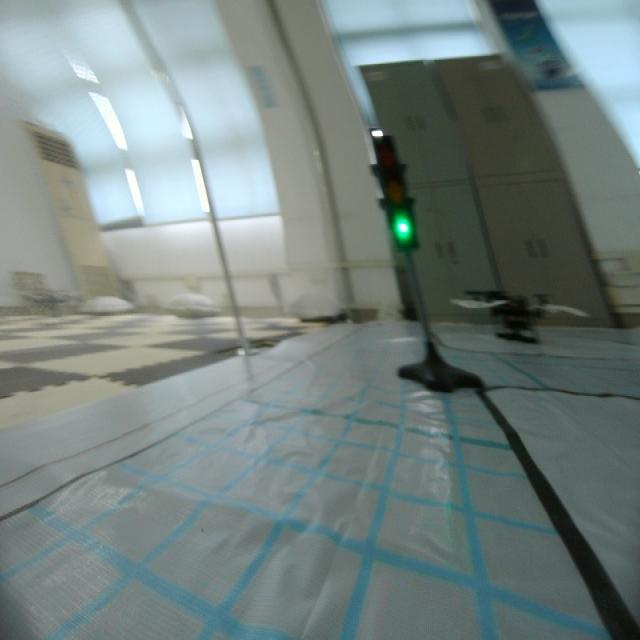green: (366, 134, 422, 255)
